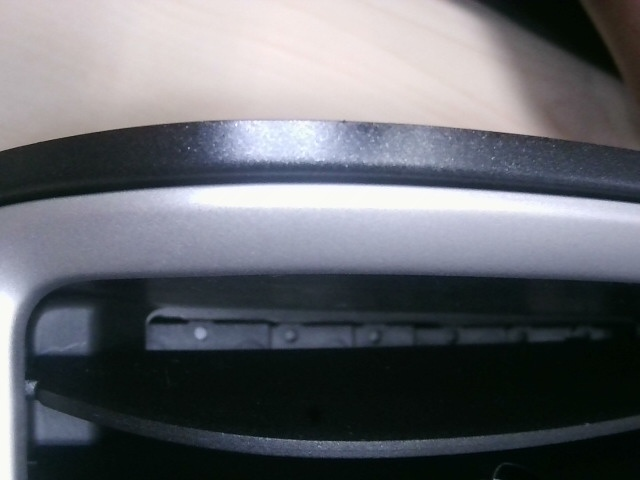NG: (338, 111, 375, 154)
